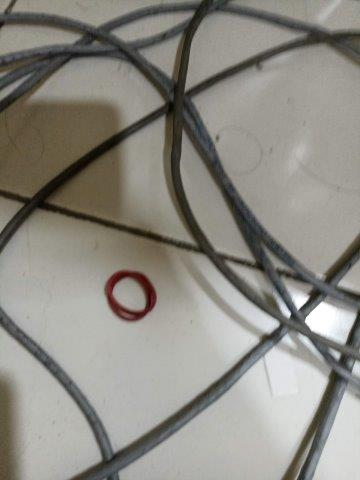karet: (103, 268, 158, 321)
